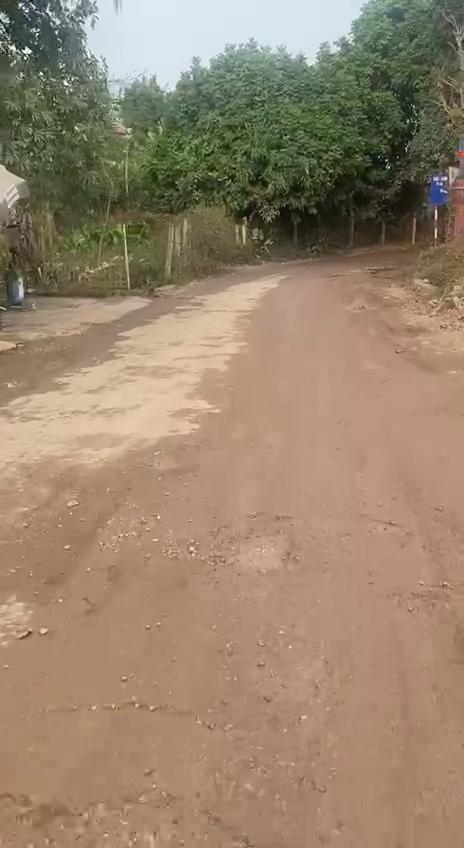pothole: (217, 508, 311, 580)
